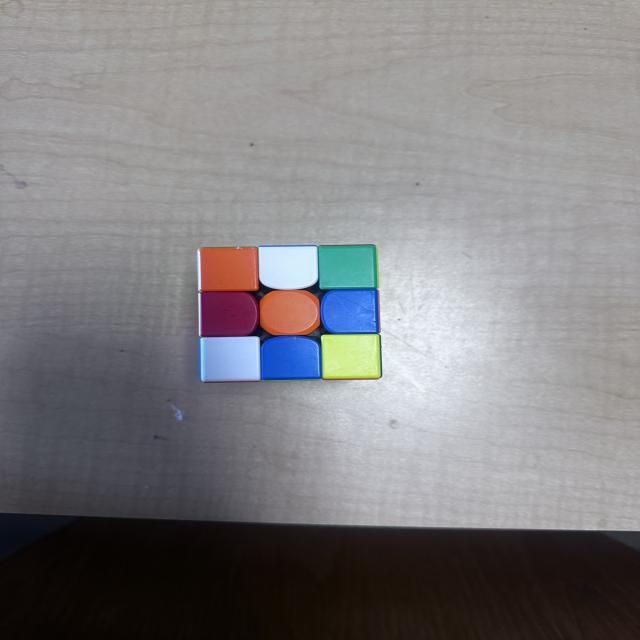sticker: (197, 290, 260, 339), (316, 244, 379, 292), (258, 290, 322, 337), (197, 247, 260, 294), (199, 336, 262, 383), (256, 246, 320, 292), (320, 334, 383, 380), (260, 336, 323, 381), (320, 289, 380, 335)
